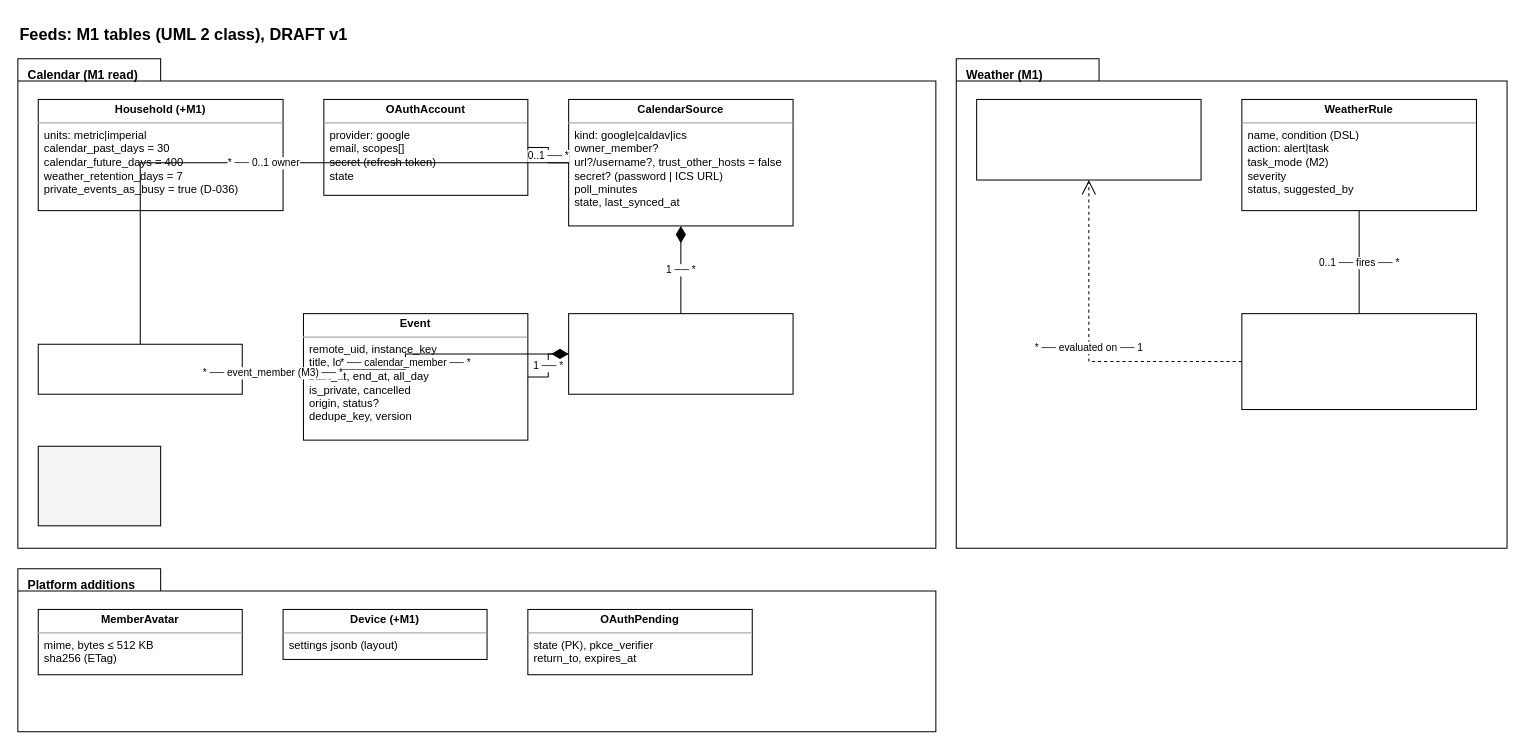
Some shapes in this 1525 by 750 pixel diagram are drawn without their labels. The centre of each missing label's shape, as x and y in pixels:
"Advisory text, severity valid_from/until source: rule|s2 dedupe_key" belongs at [1358,361].
"Calendar remote_id, name, color enabled sync_state" belongs at [680,353].
"Member display_name, role, color: Hue" belongs at [139,368].
"WeatherSnapshot fetched_at provider: open-meteo current/hourly/daily jsonb" belongs at [1088,139].
"«enumeration» Visibility full busy" belongs at [99,485].
